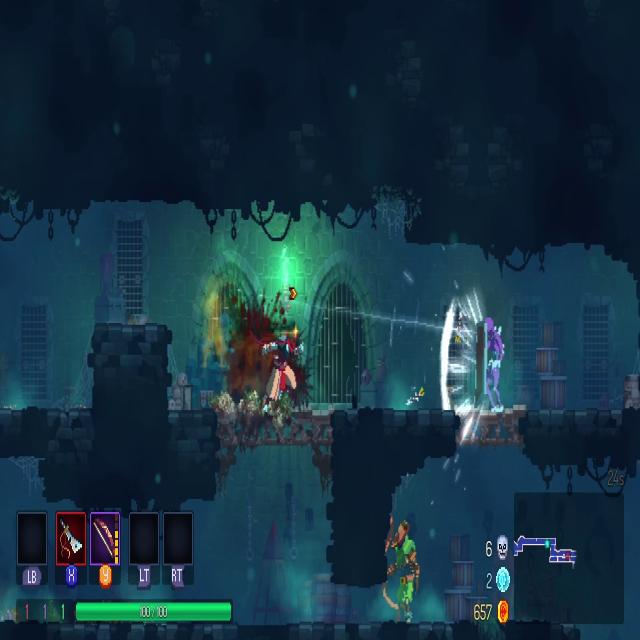agents: (263, 327, 307, 398)
enemy_archer: (384, 522, 419, 621)
enemy_purple_shield: (472, 321, 507, 415)
wood_floor: (220, 407, 336, 447), (453, 405, 528, 453)
